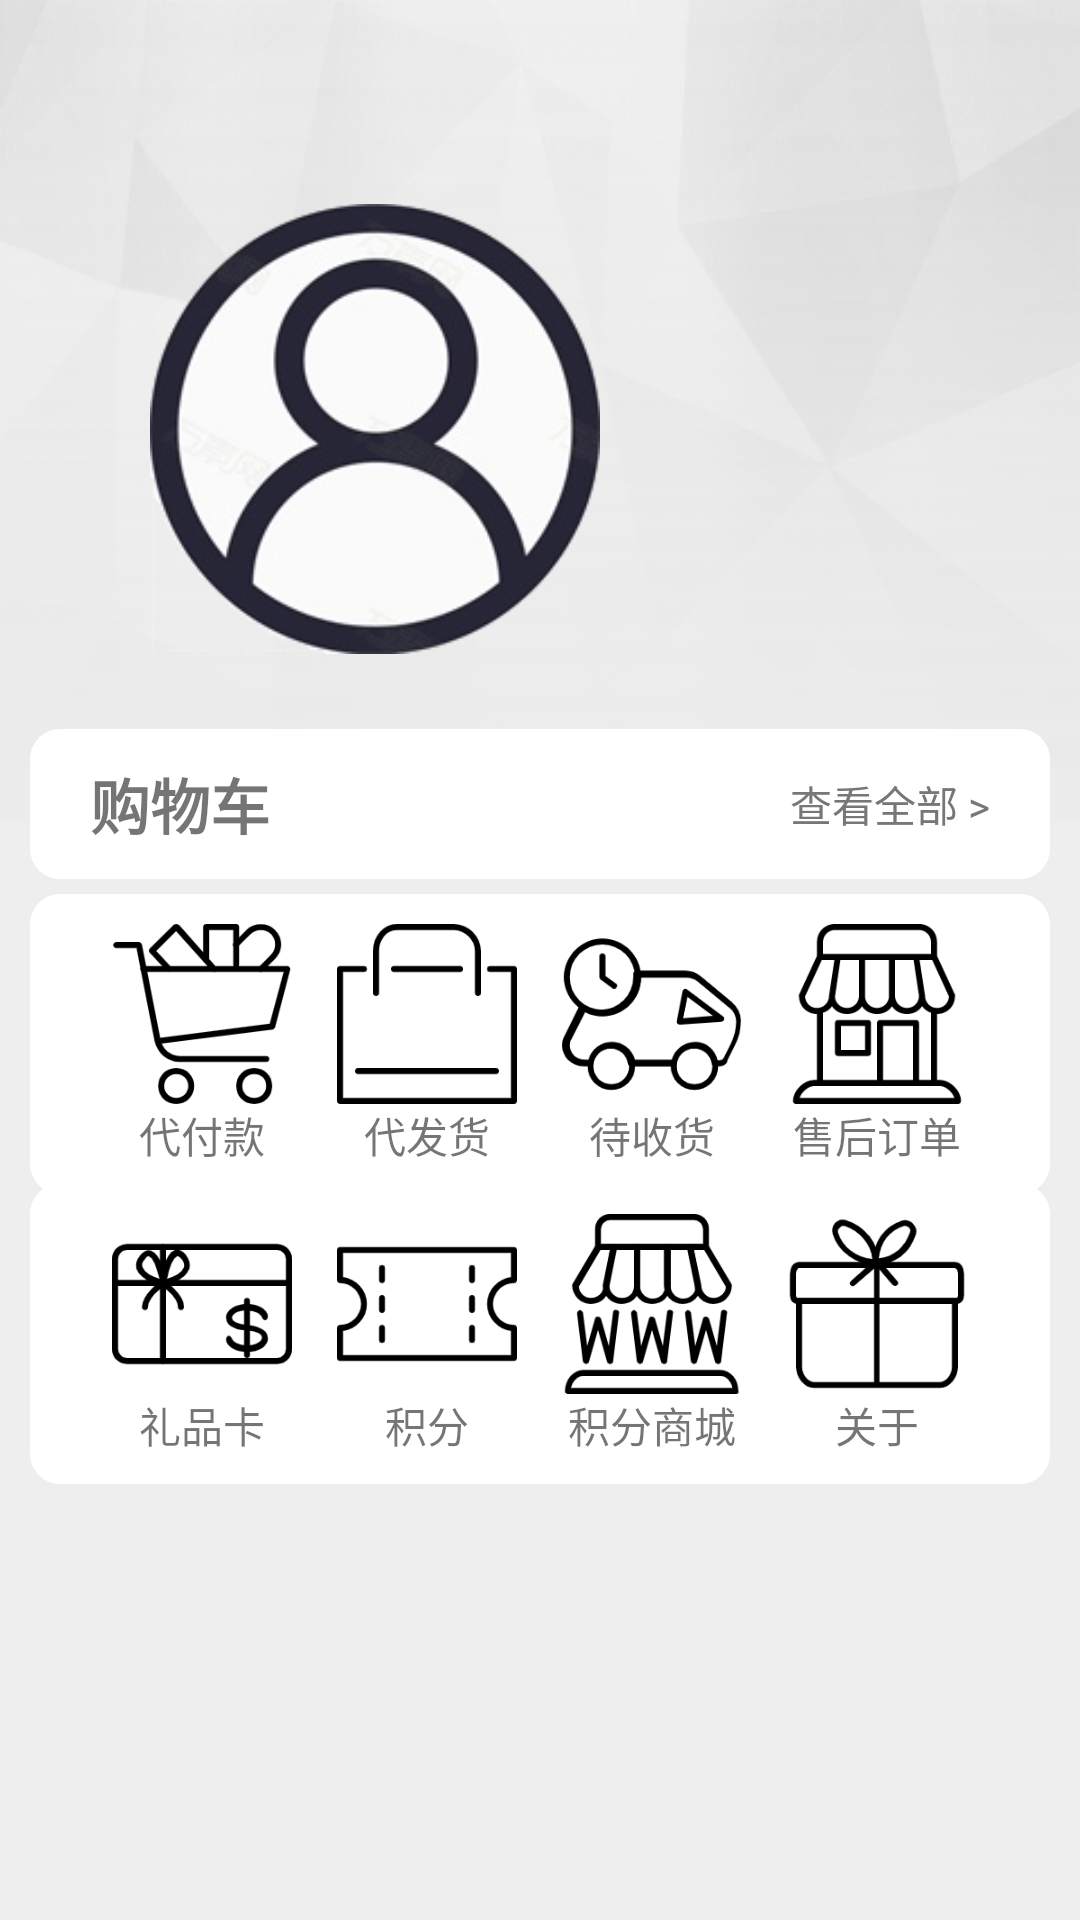

Named icons in this screenshot (1080 x 1920) and their centers, (x,y):
buy: (202,1014)
